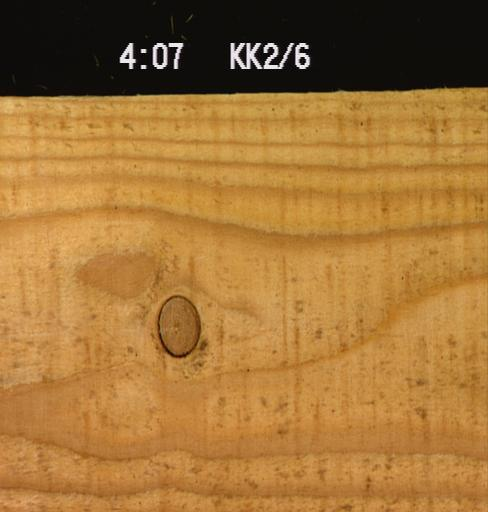dry_knot: (153, 293, 200, 358)
